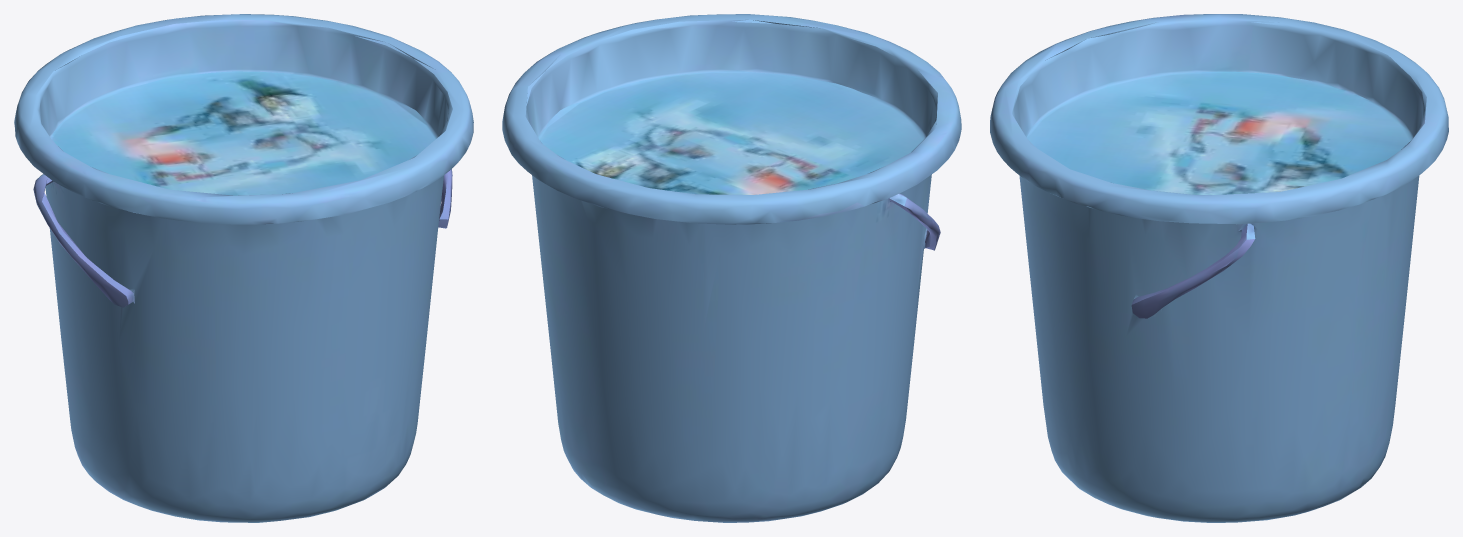
The model's file is bluebucket.glb.
3 views of the same model, side by side, from view 1: azimuth 30°, elevation 25°; view 2: azimuth 150°, elevation 25°; view 3: azimuth 270°, elevation 25° (orthographic).
Visible parts, largest first — view 1: bluebucket; view 2: bluebucket; view 3: bluebucket.
Boxes of the visible parts, bbox=[...] form: bluebucket: bbox=[14, 14, 473, 522]; bluebucket: bbox=[502, 14, 961, 522]; bluebucket: bbox=[990, 14, 1448, 522].
Bounding box in the file's own units: 0.3573 × 0.3 × 0.3566.
Materials: 1 (1 with a texture image).
